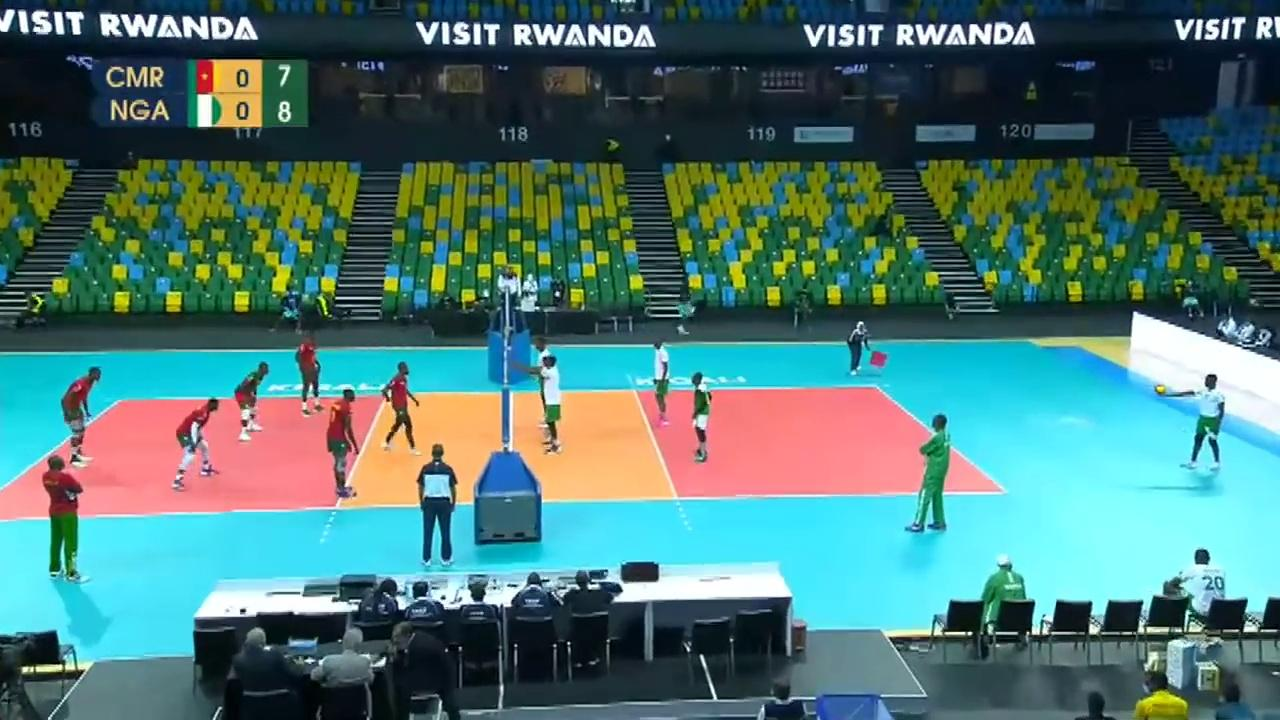player: (1177, 375, 1230, 469), (172, 397, 222, 489), (320, 392, 360, 503), (63, 368, 103, 467), (380, 363, 421, 455), (685, 376, 721, 464), (236, 359, 273, 440), (535, 348, 563, 453), (647, 335, 676, 432), (529, 332, 558, 429), (298, 331, 322, 415)
refree: (417, 446, 462, 563), (494, 261, 523, 333), (850, 321, 872, 374)
